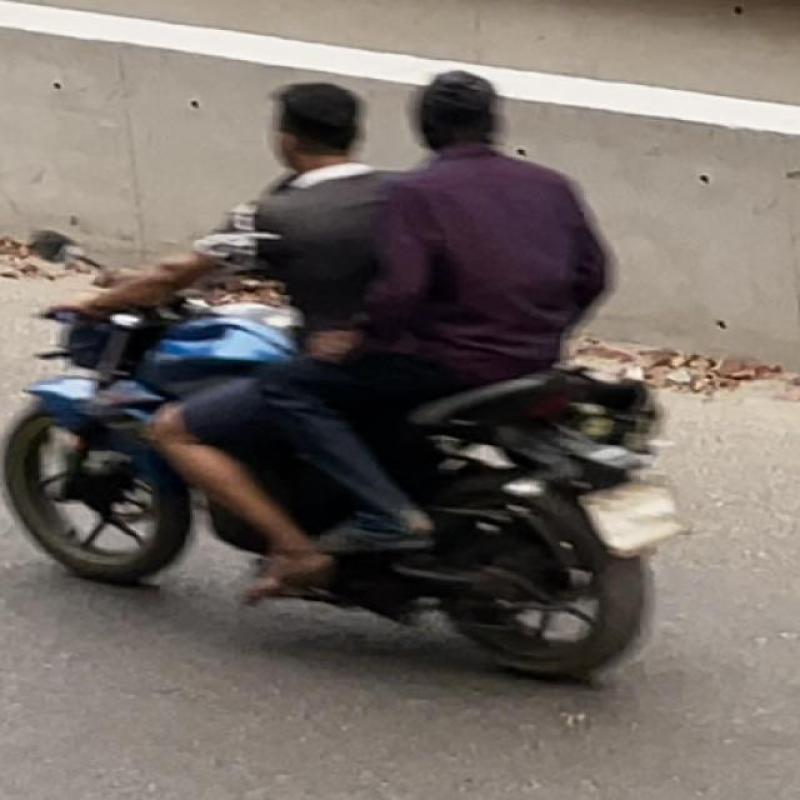nohelmet: (228, 74, 400, 176), (411, 52, 546, 156)
